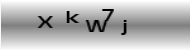7: (101, 7, 116, 20)
W: (85, 20, 108, 33)
X: (37, 15, 54, 30)
j: (119, 19, 129, 35)
k: (64, 11, 81, 24)
